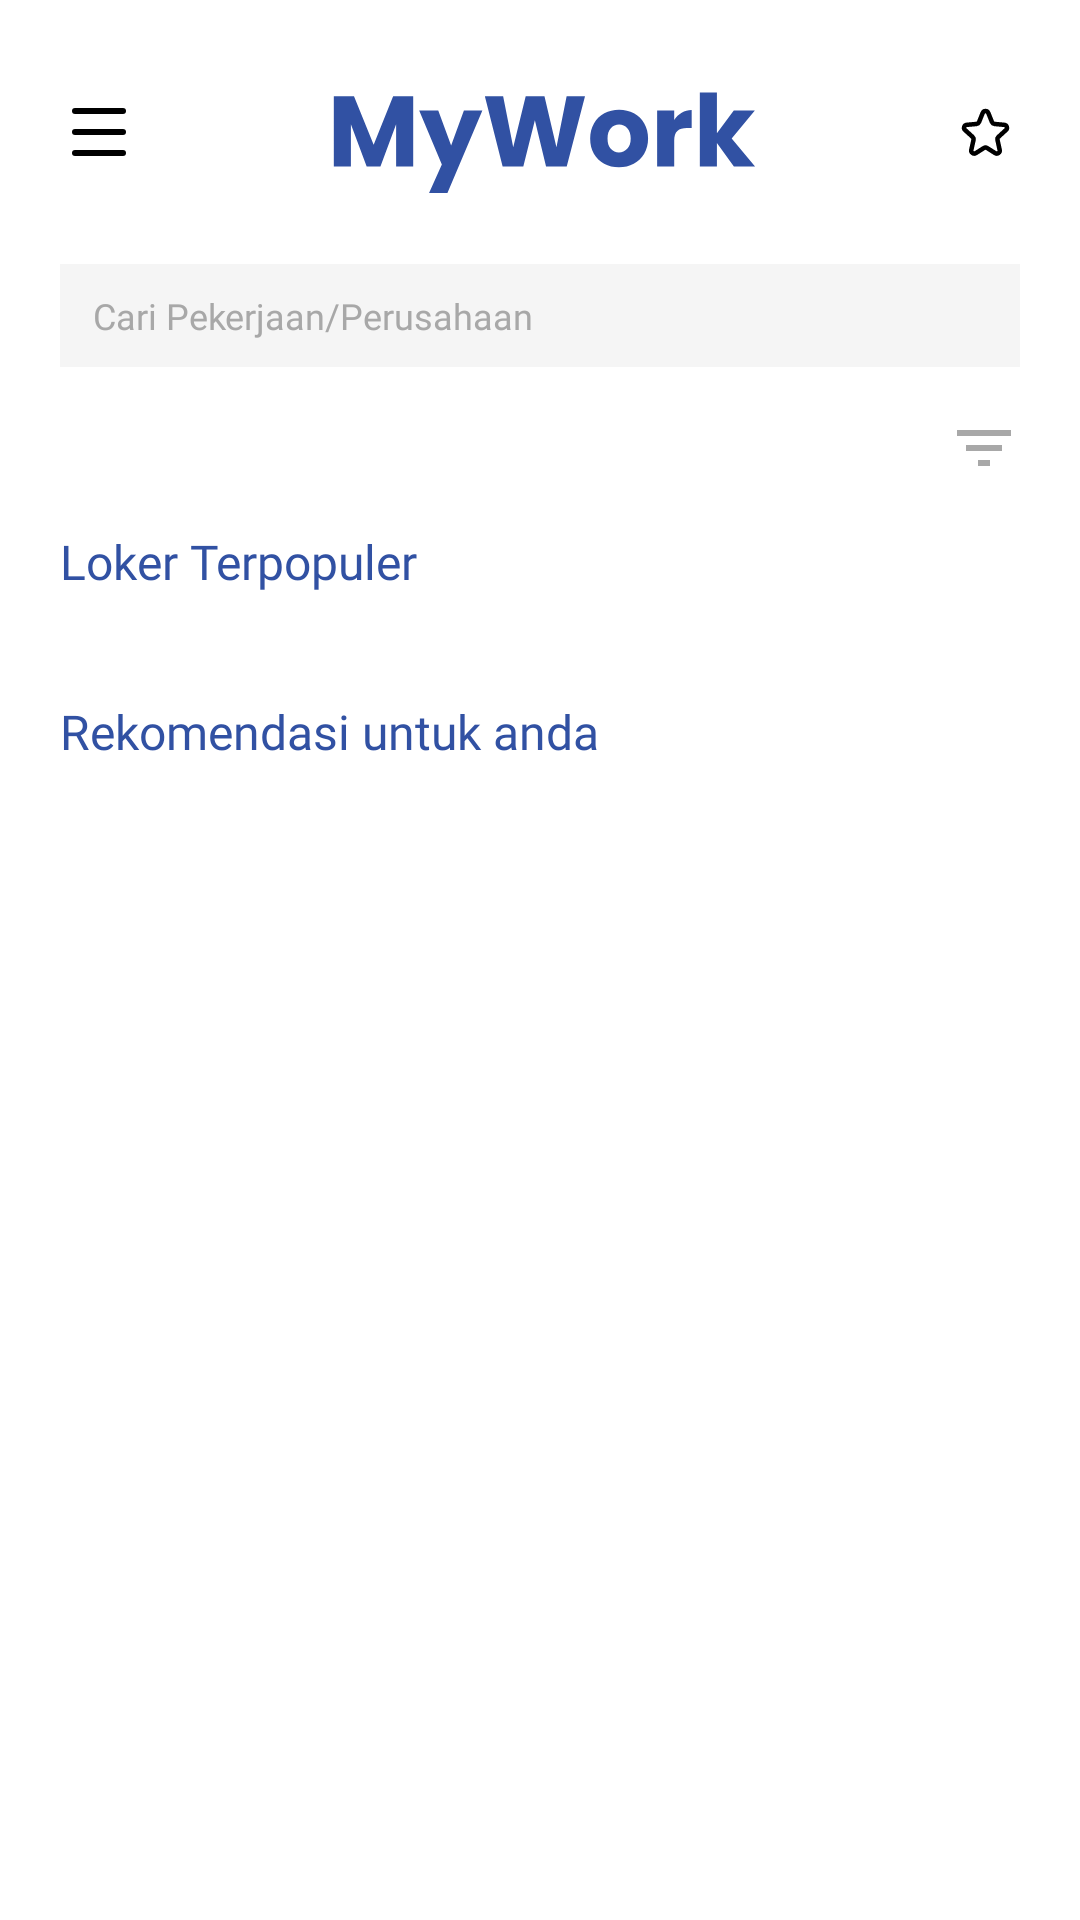

Point at icon controls on the screen. Image size 1080px×1920px, points as [x,y].
filter list: [984,448]
menu: [99,132]
star: [985,132]
